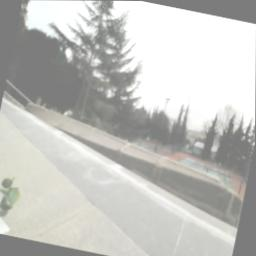herb: (1, 174, 24, 225)
